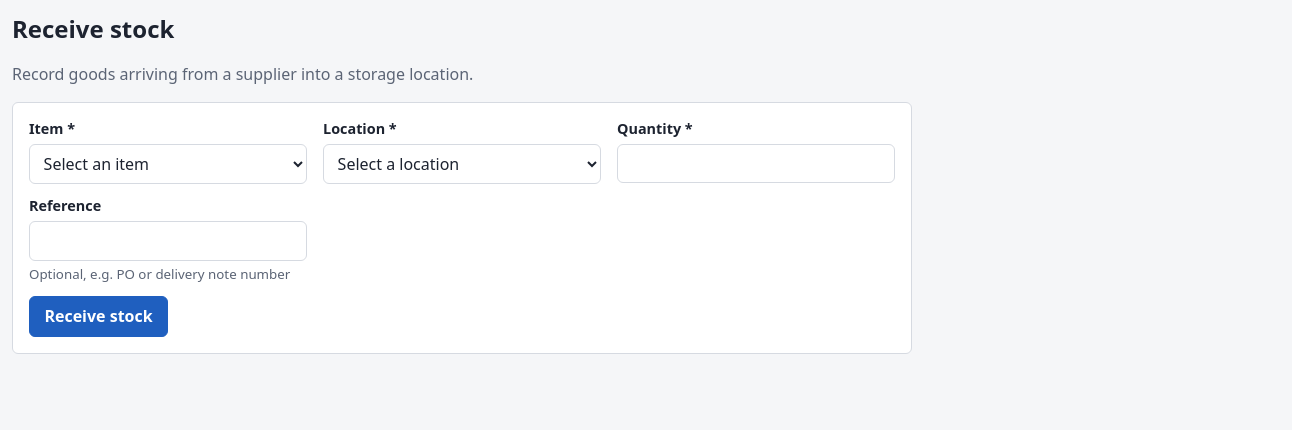
Test case: ReceivePage › submits the receipt, shows success and resets quantity and reference
Select "BOLT-10 — Bolt 10mm" in the dropdown labelled "Item *" at (168, 164), box [29, 144, 307, 184]
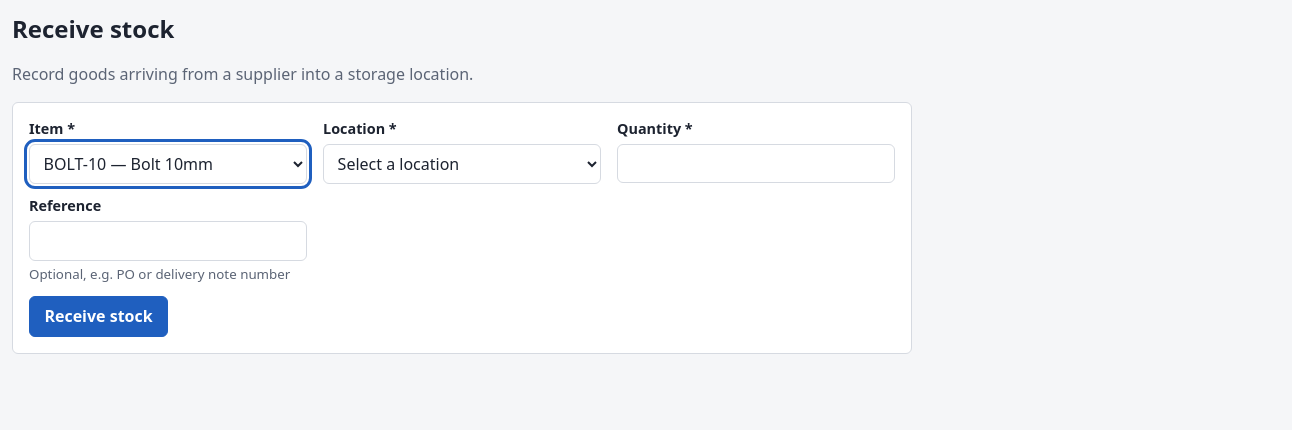
Select "A-01 — Aisle A bay 1" in the dropdown labelled "Location *" at (462, 164), box [323, 144, 601, 184]
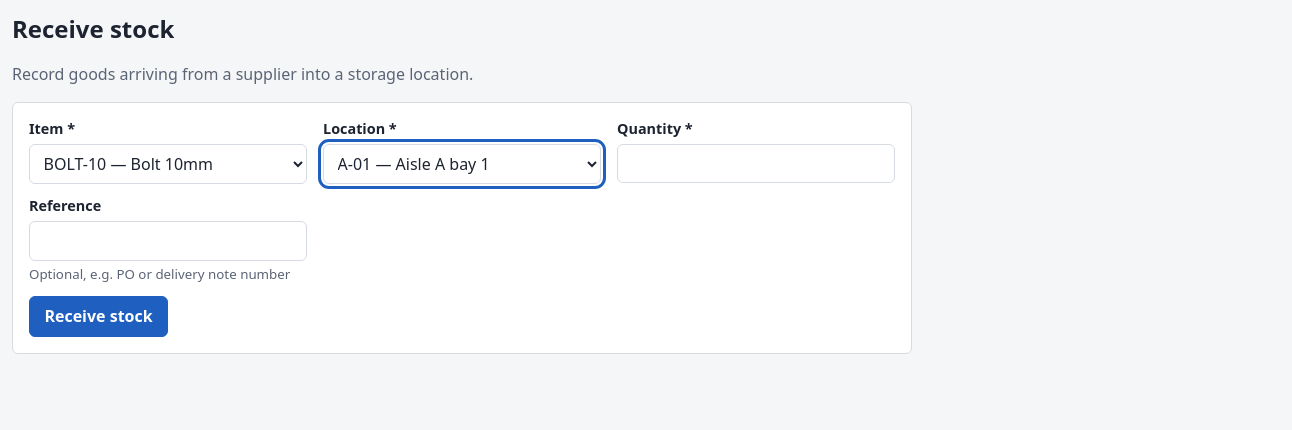
Type "10" into the field labelled "Quantity *" at (756, 164), box [617, 144, 895, 184]
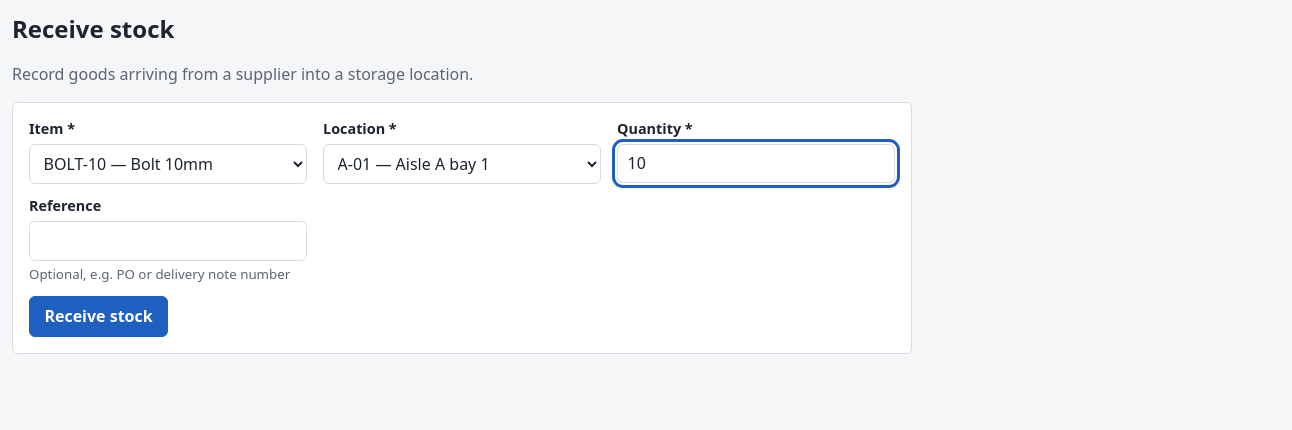
Type "  PO-1 " into the field labelled "Reference" at (168, 241), box [29, 221, 307, 261]
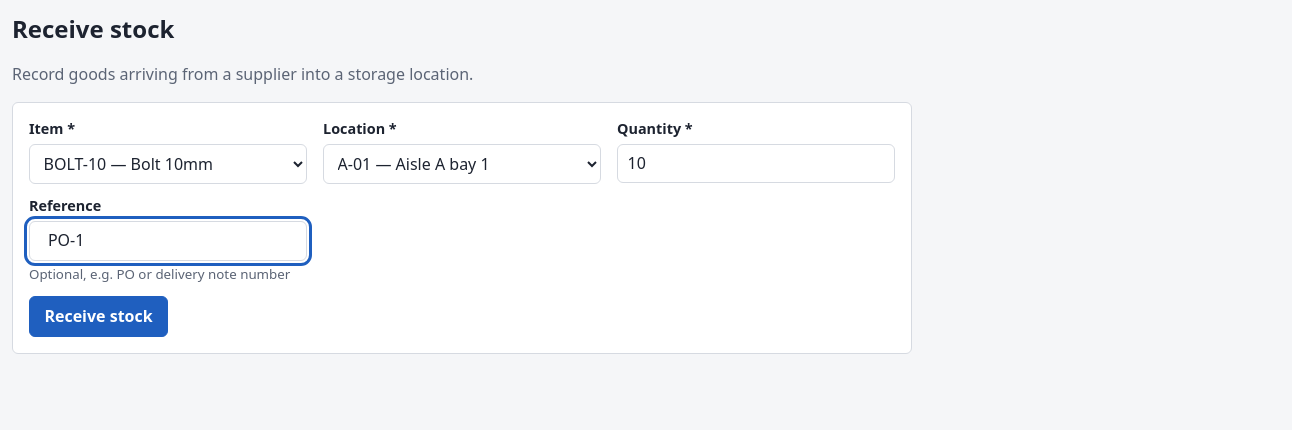
Click the button "Receive stock" at (98, 317), box [29, 296, 168, 337]
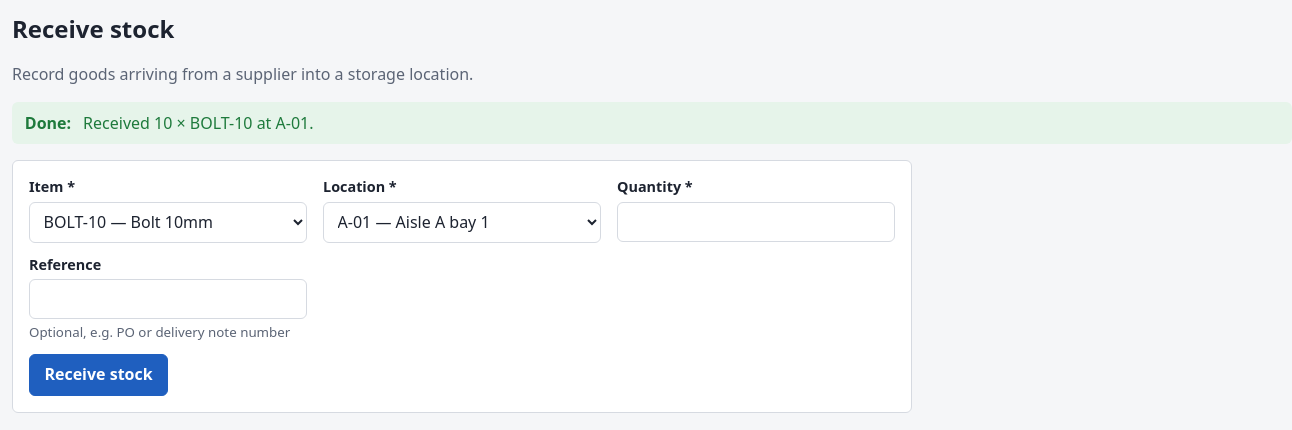
Check: the field labelled "Quantity *" is empty, box [617, 202, 895, 242]
Check: the text "Received 10 × BOLT-10 at A-01." is shown, box [83, 112, 314, 134]
Check: the field labelled "Reference" is empty, box [29, 280, 307, 319]
